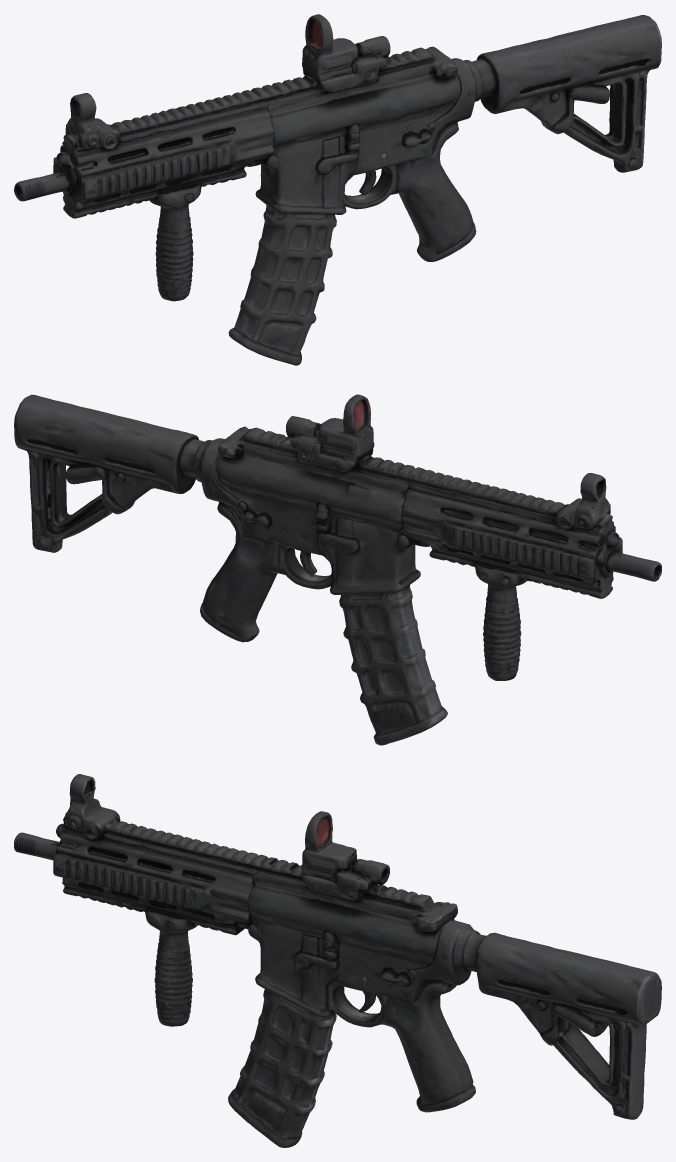
3 views of the same model, one above another, from view 1: azimuth 30°, elevation 25°; view 2: azimuth 150°, elevation 25°; view 3: azimuth 330°, elevation 25° (orthographic).
Size of the model in its own units: 1.9 by 0.969 by 0.1729.
Materials: 1 (1 with a texture image).
